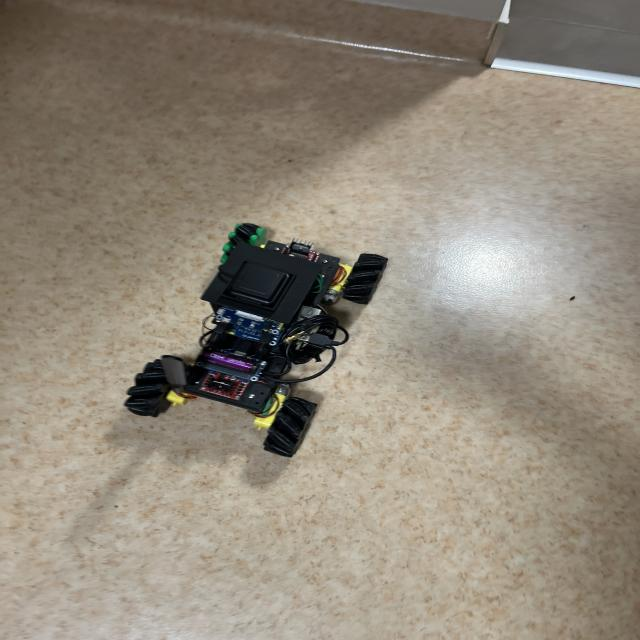robot: (124, 223, 387, 457)
